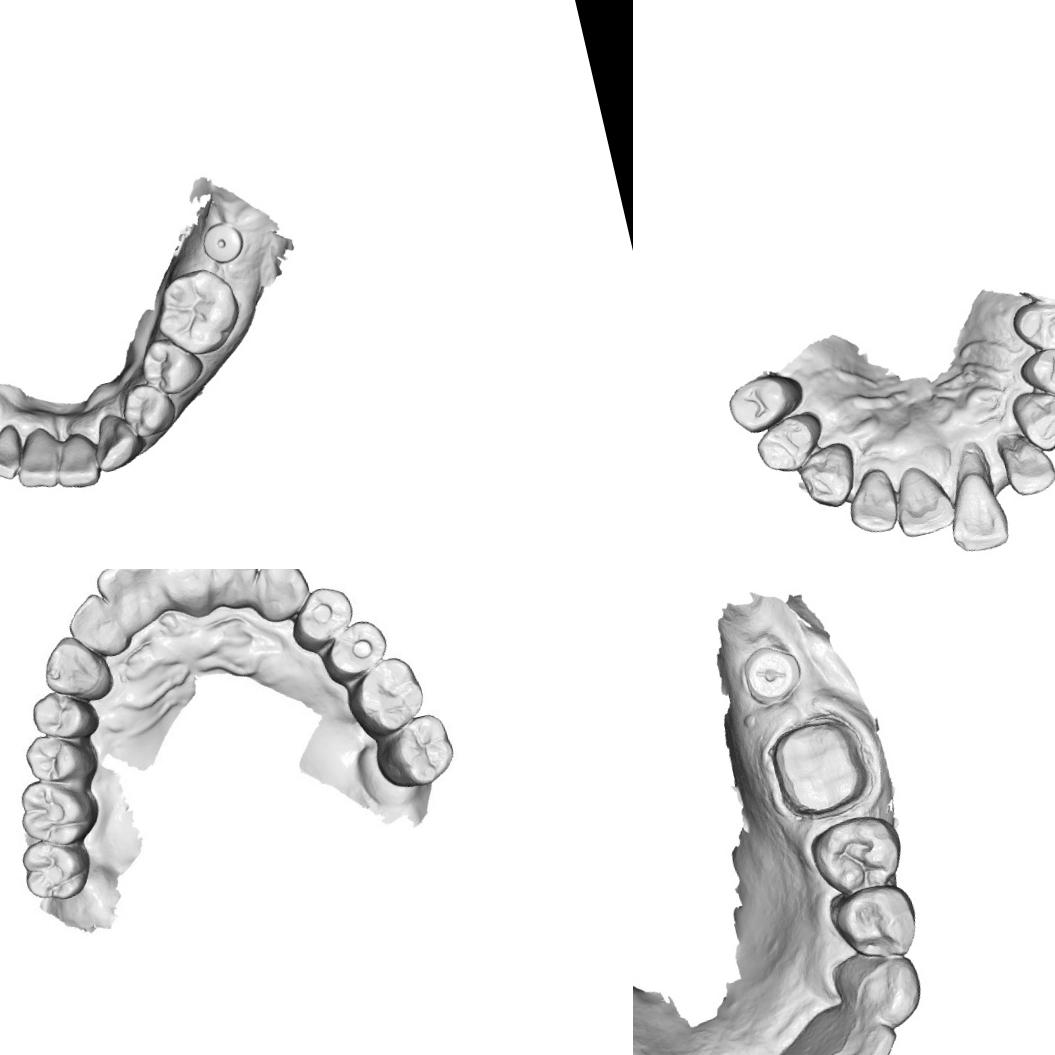canine: (826, 941, 931, 1042), (36, 626, 114, 706), (792, 438, 864, 514), (86, 407, 148, 475), (245, 569, 314, 628), (1007, 380, 1055, 457)
crown: (762, 709, 878, 826)
implant: (196, 217, 248, 268)
implant_minus: (739, 638, 802, 706)
incisor: (933, 440, 1014, 557), (886, 458, 958, 540), (59, 588, 128, 666), (993, 420, 1055, 501), (840, 465, 903, 540), (89, 569, 165, 631), (145, 569, 223, 625), (7, 424, 66, 496), (47, 429, 104, 494), (831, 1009, 909, 1055), (205, 569, 268, 616), (0, 421, 29, 486)
molar: (146, 261, 250, 363), (365, 707, 462, 796), (340, 650, 432, 742), (11, 767, 105, 856), (15, 829, 102, 911)
premolar: (804, 807, 907, 905), (826, 877, 925, 970), (282, 580, 363, 661), (314, 614, 396, 691), (722, 368, 810, 438), (750, 407, 831, 479), (20, 724, 101, 792), (136, 330, 210, 402), (28, 682, 104, 748), (115, 376, 182, 442), (1008, 292, 1055, 359), (1017, 339, 1055, 404)
